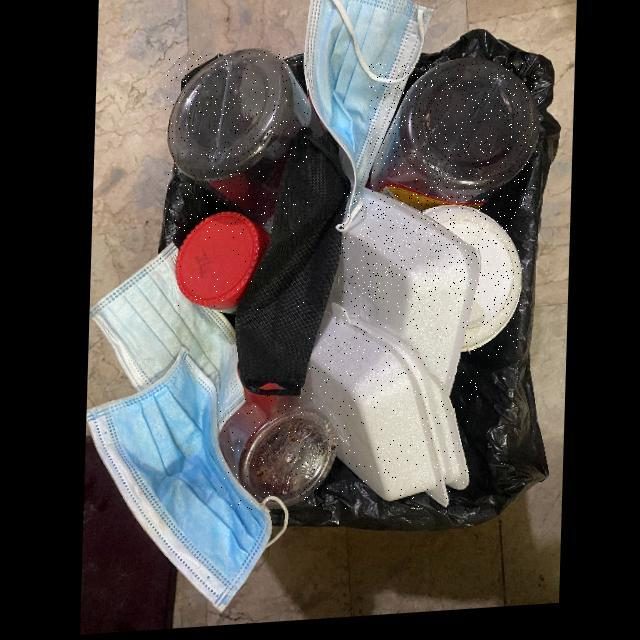plastic: (369, 63, 537, 217), (166, 52, 308, 234), (217, 391, 336, 509), (174, 212, 268, 313)
styrofoam: (297, 302, 469, 509), (340, 192, 480, 400), (422, 211, 521, 358)
